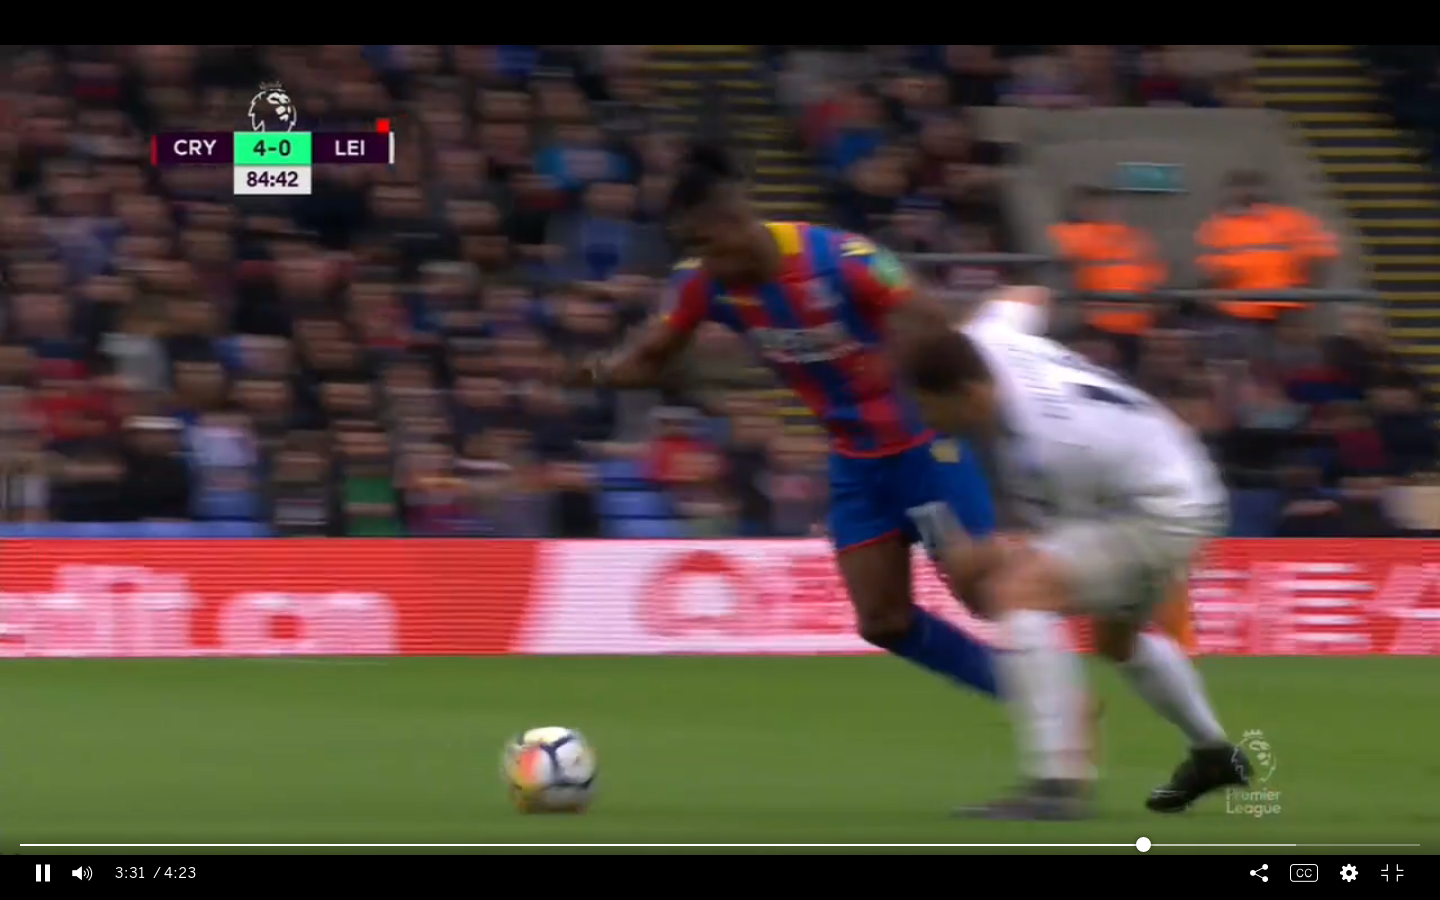soccer player: (570, 160, 1010, 720), (910, 283, 1259, 820)
soccerball: (493, 723, 599, 817)
